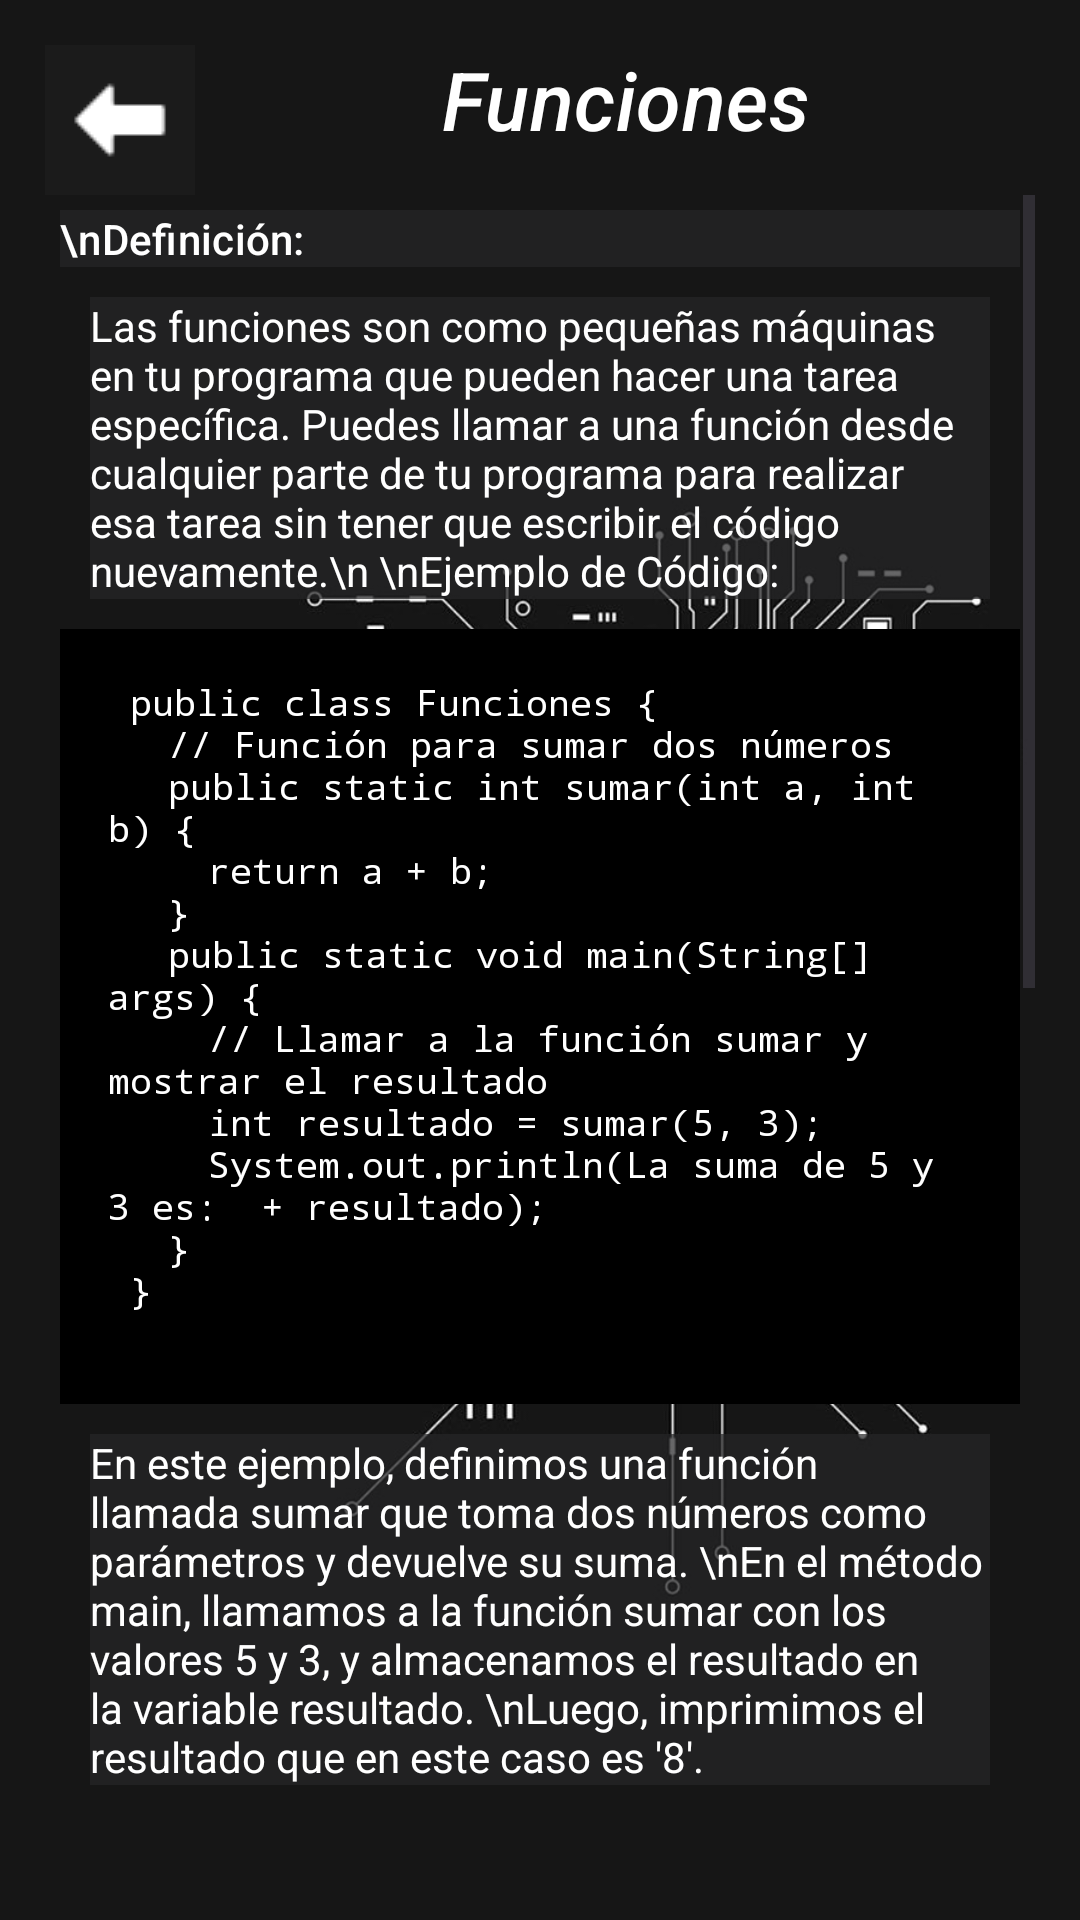

Where to tap for icons on this 1080px x 1920px app screen, as point (x, y):
buttonback: point (120, 120)
